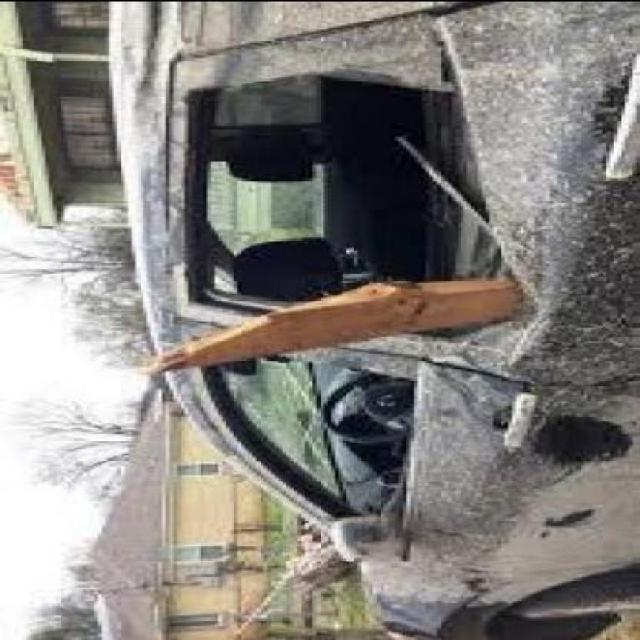damage: (121, 0, 640, 603)
